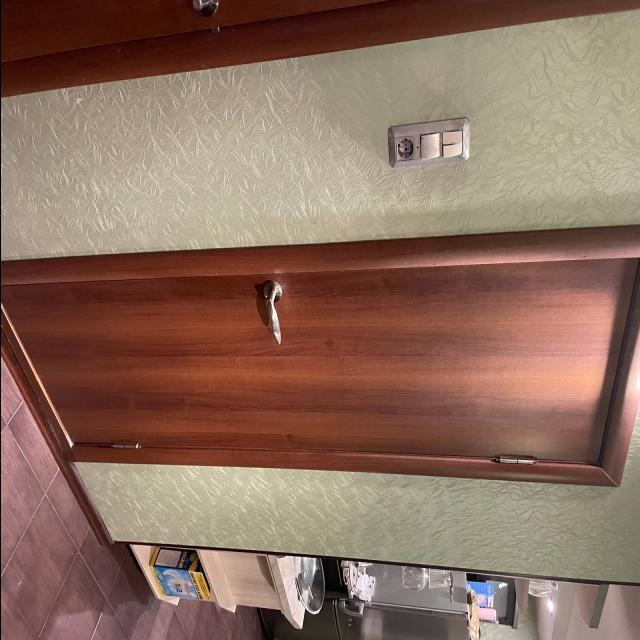close: (8, 244, 614, 482)
